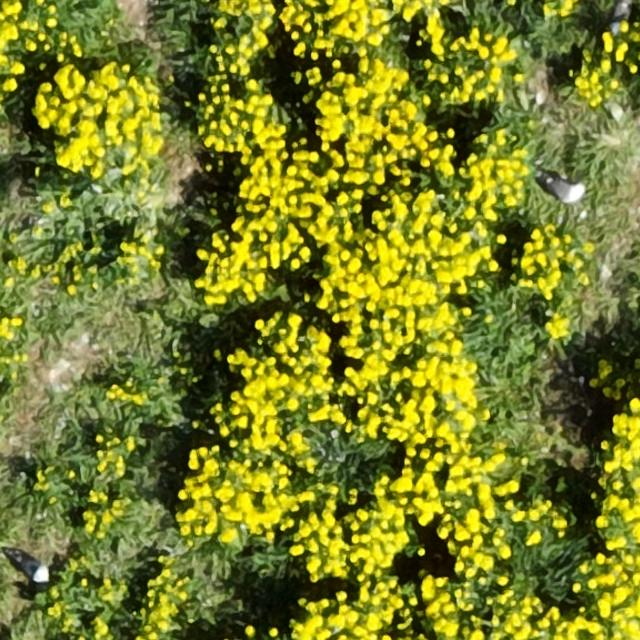umineko: (541, 178, 583, 204), (13, 555, 47, 583)
